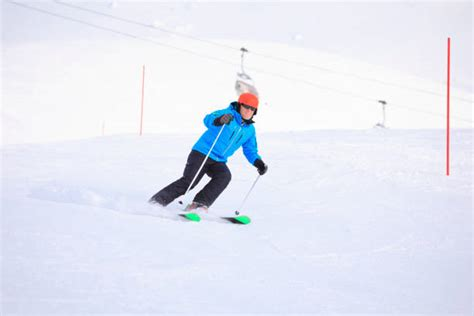skier: (134, 91, 273, 224)
